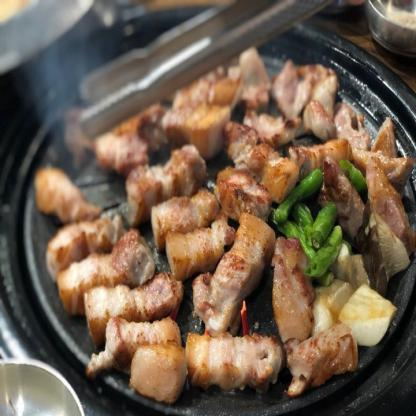pork: (32, 152, 271, 398), (181, 73, 408, 175)
